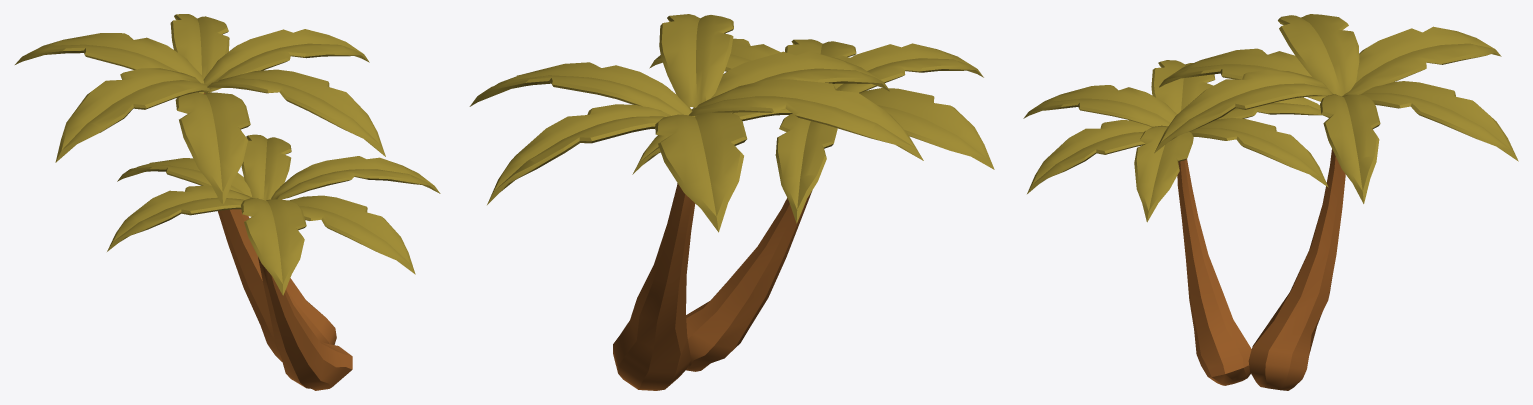
File: PalmTree.fbx
3 views of the same model, side by side, from view 1: azimuth 30°, elevation 25°; view 2: azimuth 150°, elevation 25°; view 3: azimuth 270°, elevation 25° (orthographic). The views are drawn at different scales.
Visible parts, largest first — view 1: PalmTreeFull; view 2: PalmTreeFull; view 3: PalmTreeFull.
Boxes of the visible parts, x1,y1,x2,y2 form: PalmTreeFull: (15, 14, 440, 390); PalmTreeFull: (469, 14, 994, 390); PalmTreeFull: (1023, 14, 1518, 390).
Size of the model in its own units: 3220 by 2619 by 4023.
